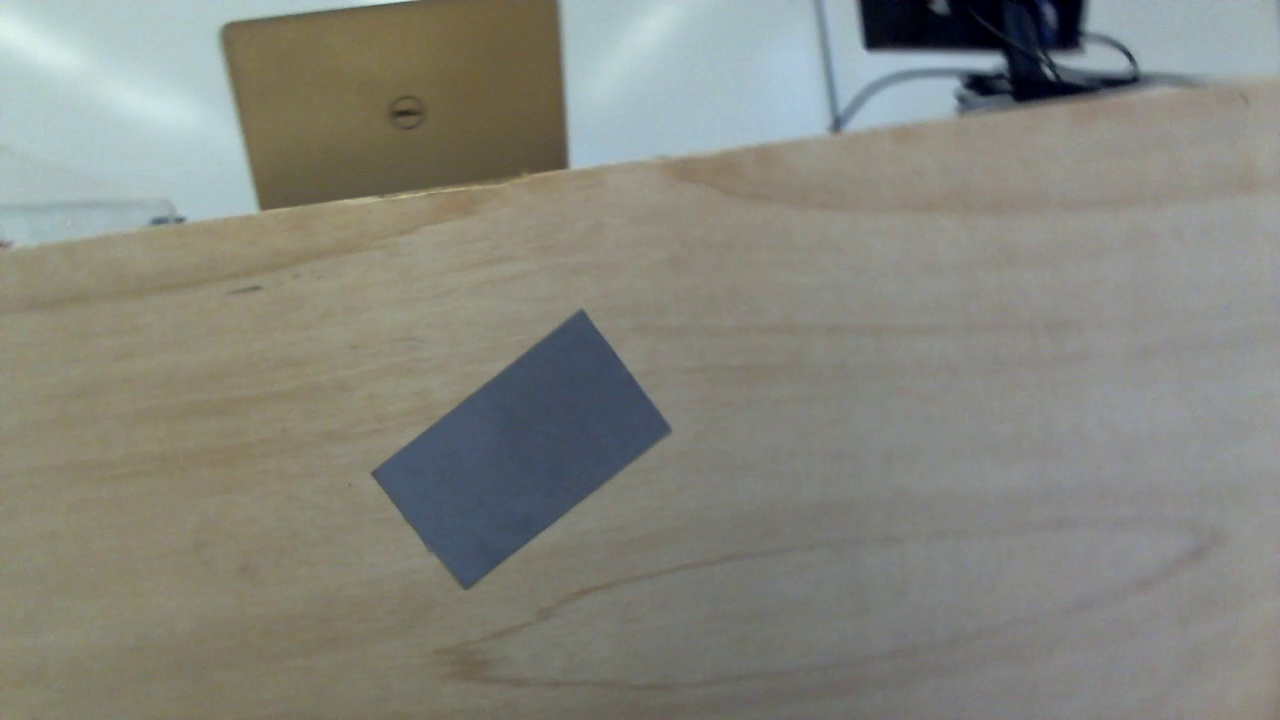Tape: (371, 308, 673, 590)
